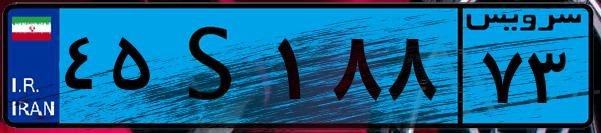1: (270, 28, 330, 110)
3: (525, 38, 570, 115)
4: (57, 26, 110, 100)
5: (110, 28, 158, 98)
7: (475, 38, 525, 113)
8: (385, 28, 445, 110), (330, 28, 385, 110)
S: (158, 12, 270, 120)
